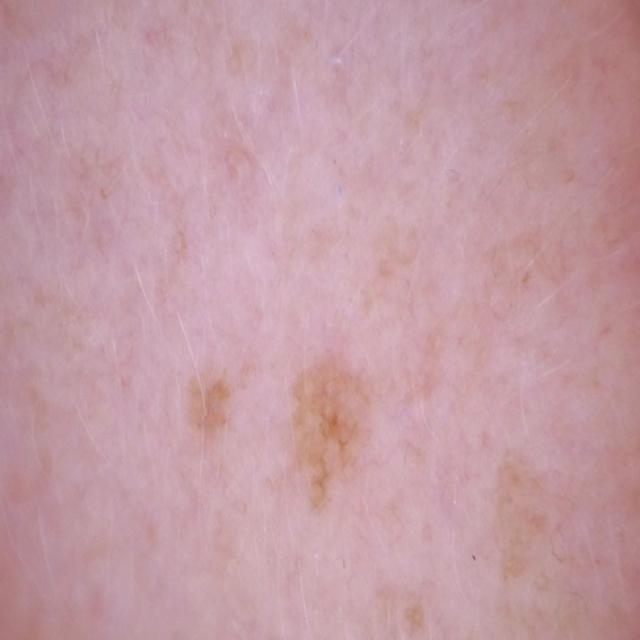Keratosis: (182, 291, 458, 567)
